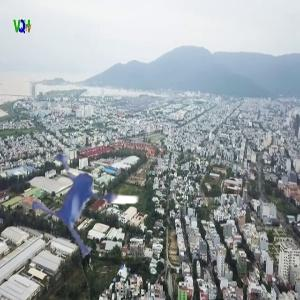drone: (16, 132, 164, 280)
